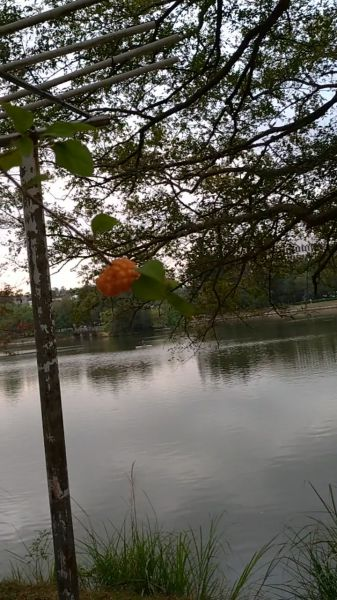eggs: (90, 256, 144, 296)
